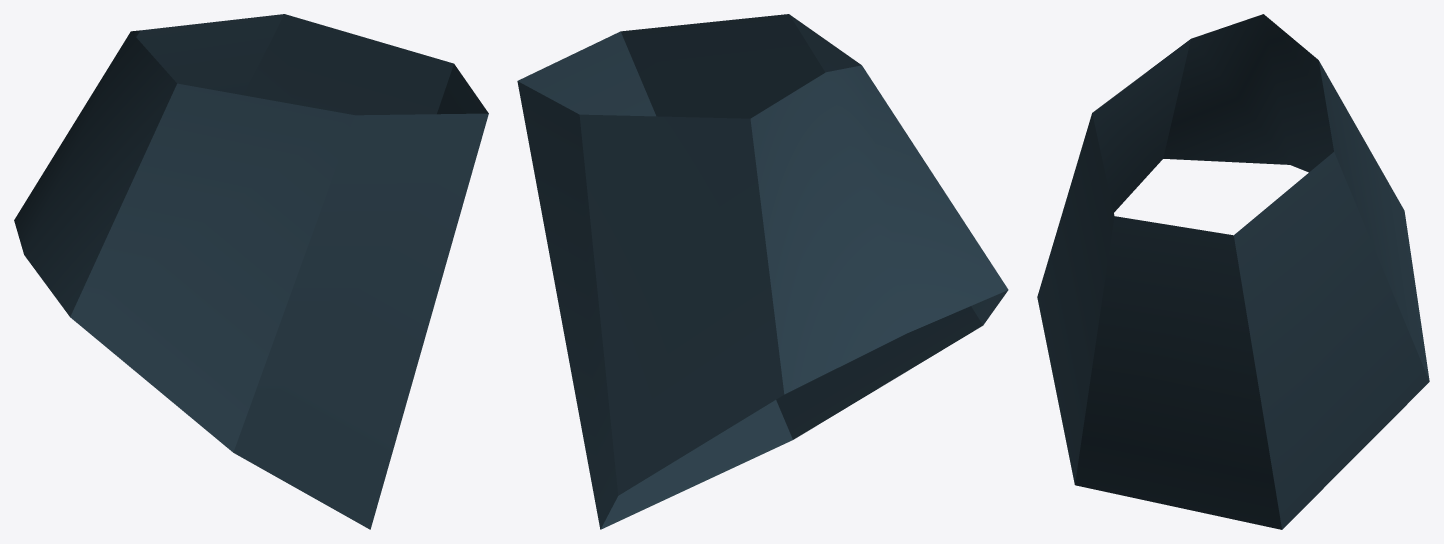
Rendered from ravenNeck.fbx.
The picture shows the model from 3 angles, left to right: view 1: azimuth 30°, elevation 25°; view 2: azimuth 150°, elevation 25°; view 3: azimuth 270°, elevation 25°; orthographic projection. The views are drawn at different scales.
Visible parts, largest first — view 1: Raven_3; view 2: Raven_3; view 3: Raven_3.
Part boxes in pixels (bbox=[...]): Raven_3: bbox=[14, 14, 488, 529]; Raven_3: bbox=[517, 14, 1008, 529]; Raven_3: bbox=[1037, 14, 1429, 529].
Bounding box in the file's own units: 568 × 606 × 505.
